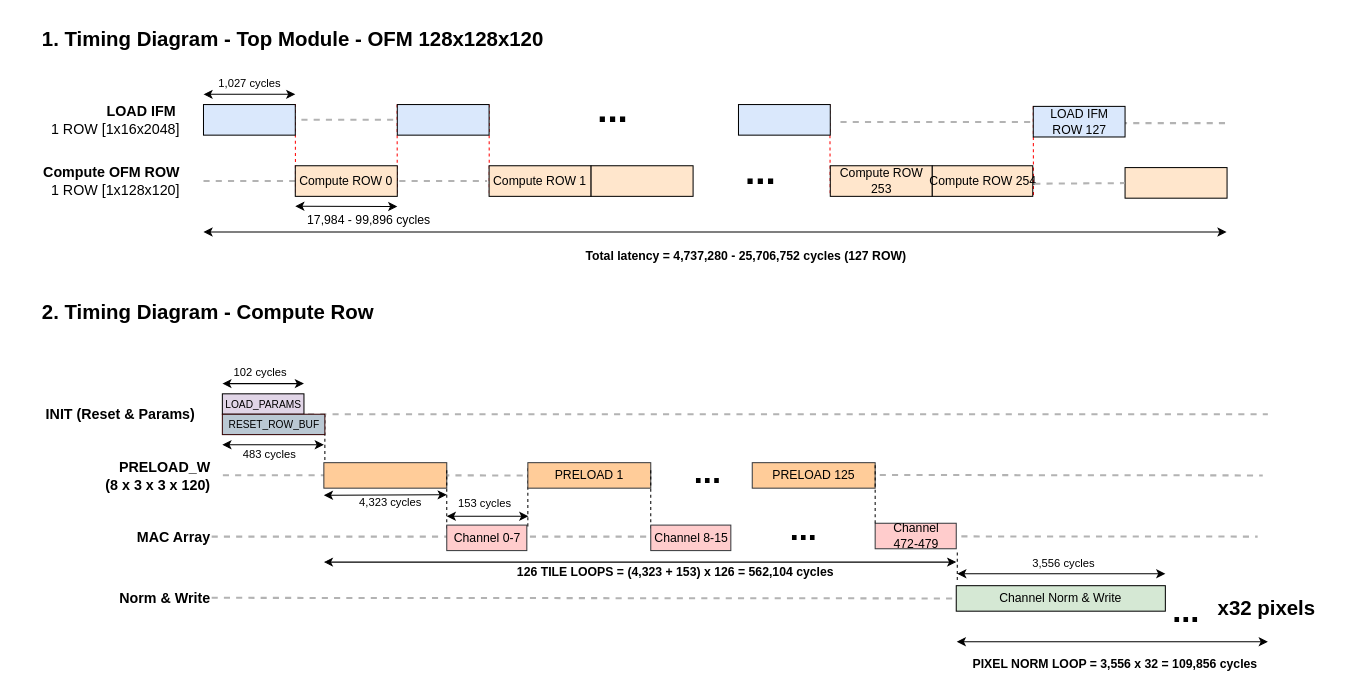
Image size: 1355x692. Some labels were removed from this diagram. Here are the shapes that lost their labels. From the top down, the centre of each, then its label:
point 248,119: LOAD IFM ROW 0
point 442,119: LOAD IFM ROW 1
point 783,119: LOAD IFM ROW 126
point 641,180: Compute ROW 2
point 1175,182: Compute ROW 255
point 385,475: PRELOAD 0
